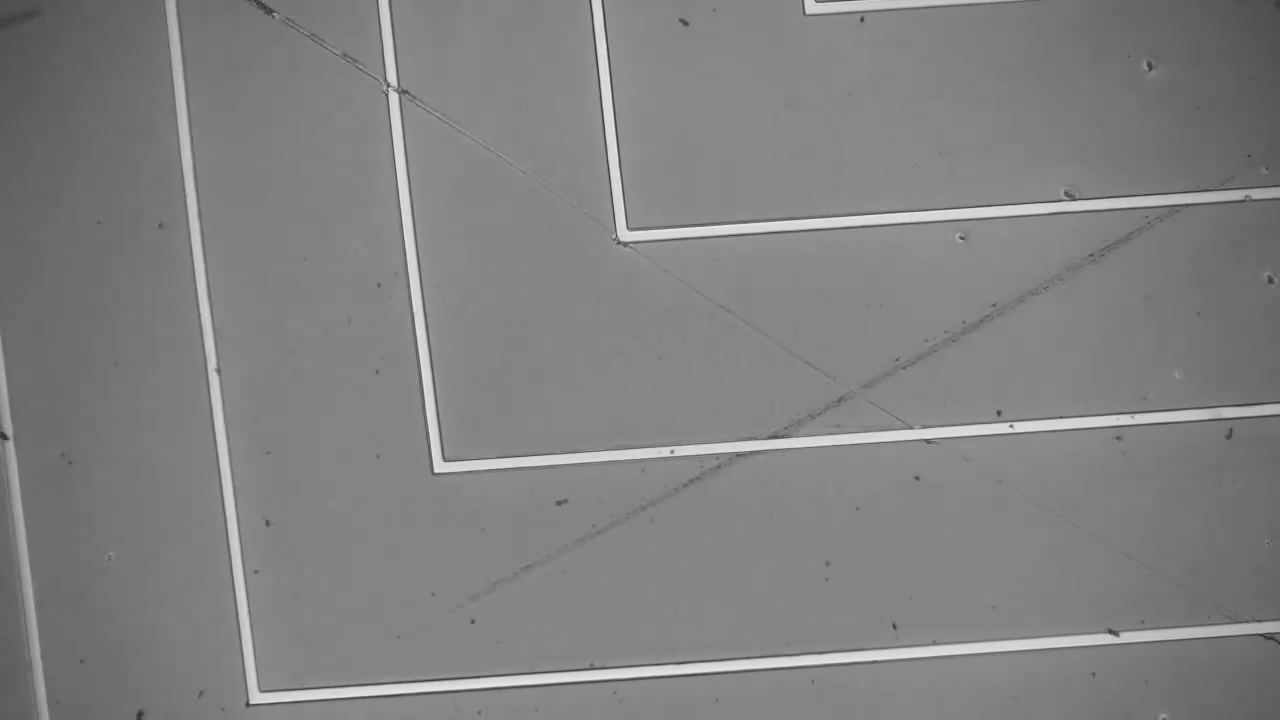edge_bite: (1241, 183, 1258, 205)
scratch: (457, 169, 1239, 598), (251, 3, 923, 434)
stains_enbedded: (1105, 619, 1128, 651), (1, 420, 23, 450)
